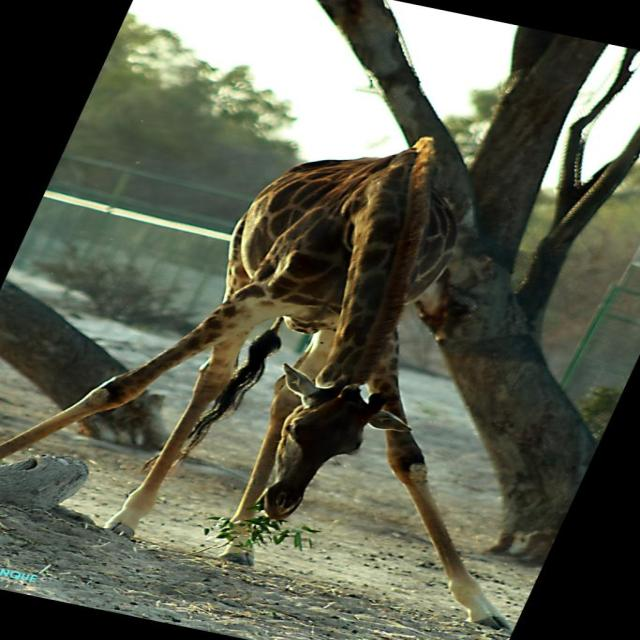Giraffe: (0, 130, 541, 636)
